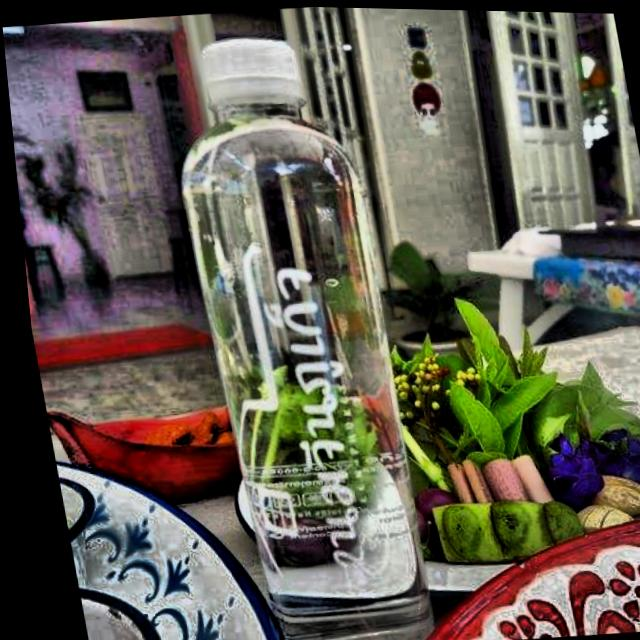Bottles: (114, 8, 471, 640)
